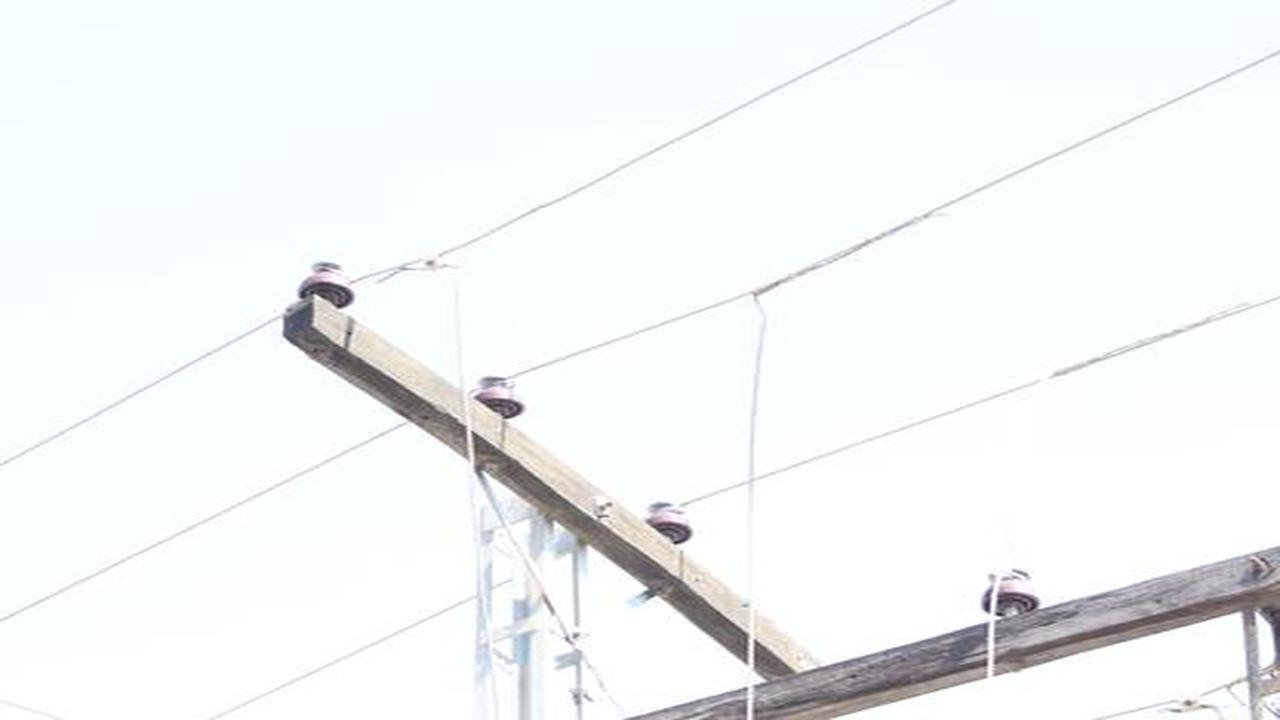insulator_pin: (973, 564, 1044, 618), (298, 253, 360, 313), (473, 366, 525, 421), (640, 499, 695, 546)
